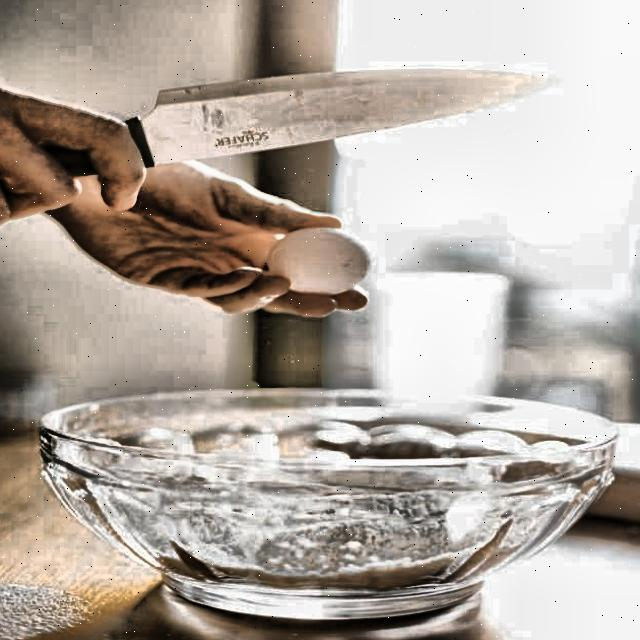knife: (23, 65, 552, 182)
